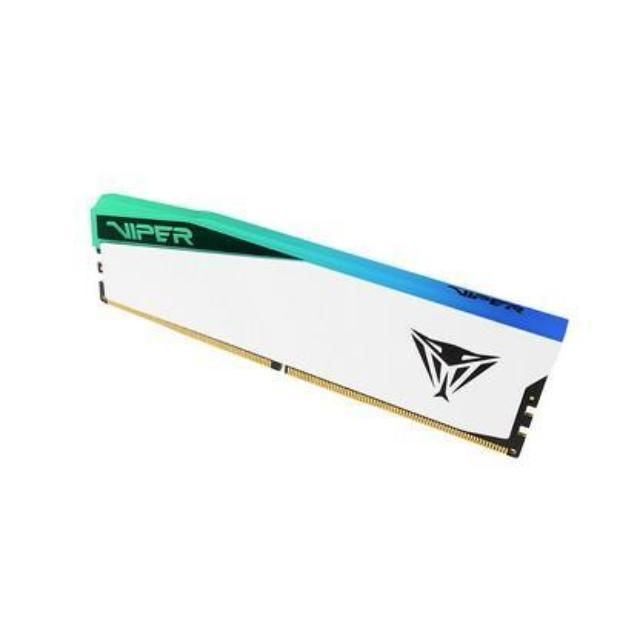RAM: (85, 183, 577, 465)
